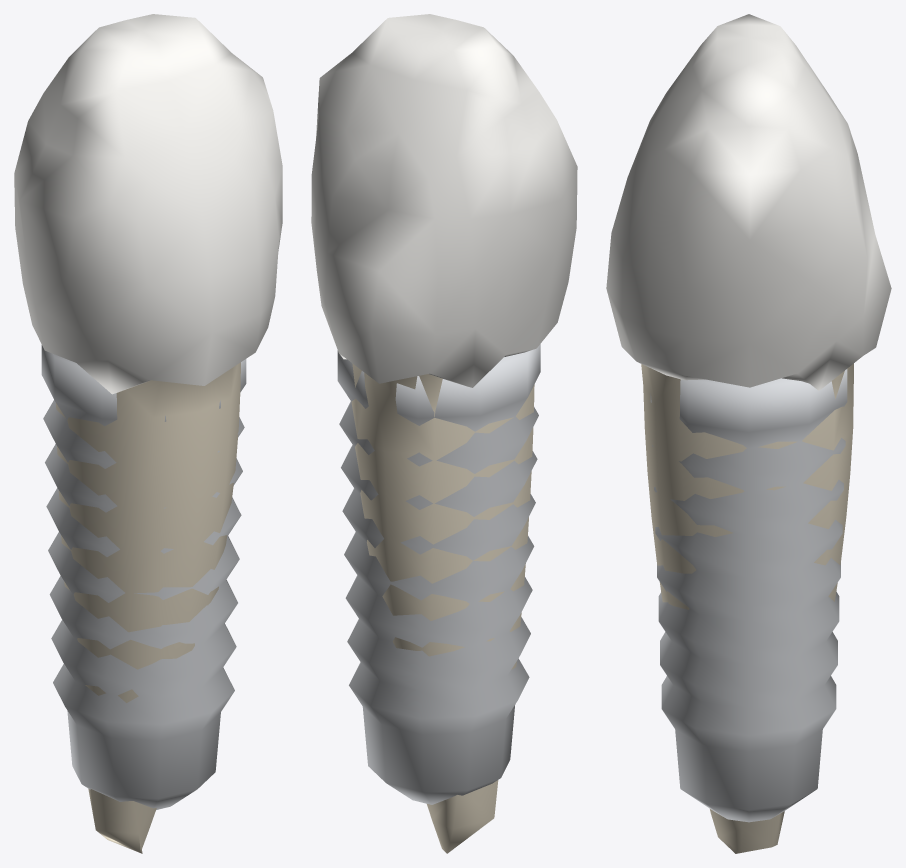
3 renders of one model, left to right at view 1: azimuth 30°, elevation 25°; view 2: azimuth 150°, elevation 25°; view 3: azimuth 270°, elevation 25°, orthographic.
Parts seen in each view (by area): view 1: crown, implant, root; view 2: crown, implant, root; view 3: crown, implant, root.
Boxes of the visible parts, x1,y1,x2,y2 form: crown: [14, 14, 282, 394]; implant: [41, 345, 246, 809]; root: [55, 362, 240, 853]; crown: [311, 14, 577, 387]; implant: [337, 344, 540, 804]; root: [351, 363, 534, 853]; crown: [606, 14, 891, 390]; implant: [650, 369, 847, 822]; root: [641, 363, 853, 853].
Bounding box in the file's own units: 4.72 × 14.87 × 4.7.
